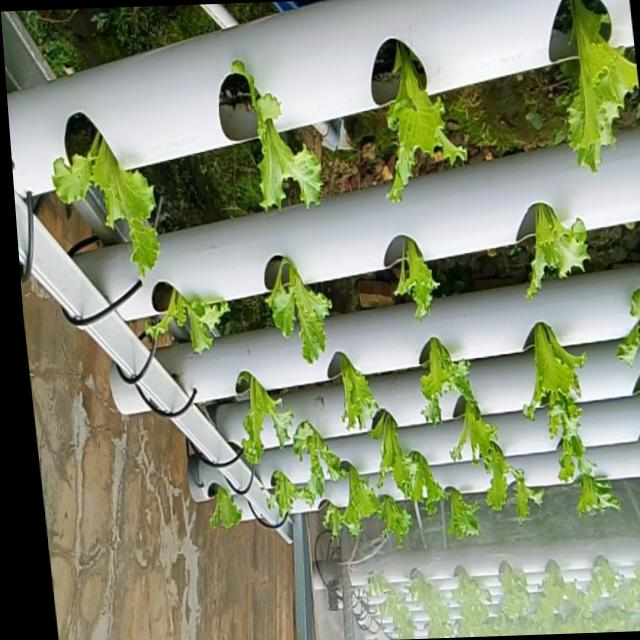Baby: (49, 137, 156, 281), (229, 65, 320, 214), (385, 45, 465, 206), (564, 0, 638, 174), (263, 263, 329, 369), (447, 398, 521, 490), (524, 205, 586, 301), (366, 411, 428, 503), (139, 297, 226, 362), (234, 376, 291, 469), (427, 462, 487, 547), (290, 423, 343, 506), (321, 466, 377, 540), (529, 323, 578, 407), (538, 374, 581, 463), (393, 242, 436, 325), (333, 356, 376, 433), (418, 340, 456, 424), (264, 473, 311, 527), (613, 289, 640, 366), (505, 467, 542, 522), (574, 473, 617, 516), (376, 496, 409, 550), (207, 494, 240, 535)
